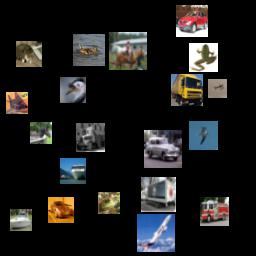airplane: (137, 214, 175, 252), (6, 92, 28, 114), (208, 79, 227, 98)
automobile: (144, 130, 182, 168), (176, 5, 208, 37), (48, 197, 74, 223)
bird: (73, 34, 105, 66), (189, 121, 218, 150), (60, 77, 86, 103)
cat: (16, 41, 42, 67)
frog: (189, 43, 218, 72), (98, 192, 120, 214)
ship: (60, 158, 86, 184), (10, 209, 32, 231)
truck: (141, 177, 176, 212), (171, 74, 203, 106), (200, 197, 229, 226), (76, 123, 105, 152)
